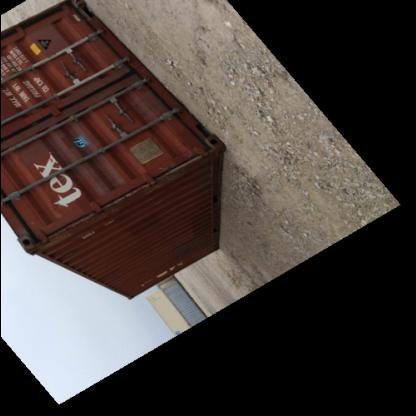Damage: (122, 82, 176, 126), (95, 180, 155, 208), (41, 214, 100, 236), (155, 154, 216, 174)
